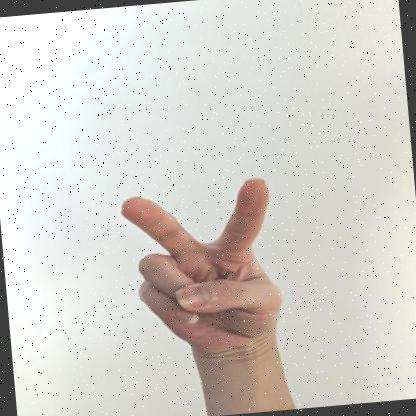V: (121, 178, 282, 353)
